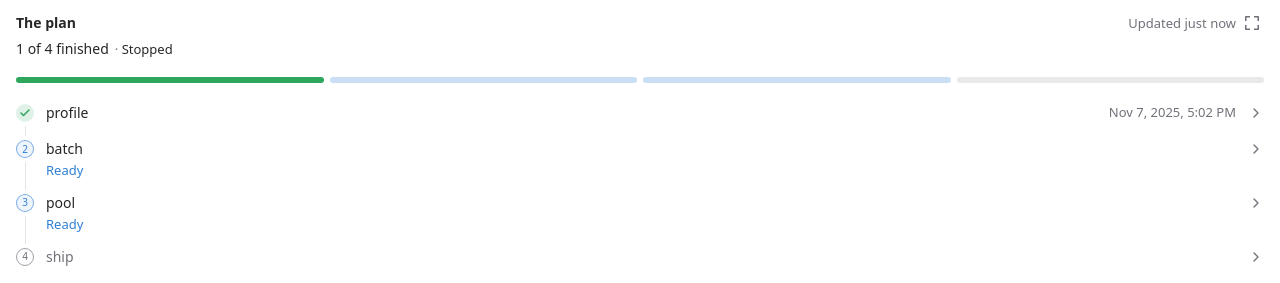
Scenario: TasksPanel › marks every step that can start as ready, and shows on the strip what waits on what
The image size is (1280, 283).
expect the picture named "Ready" reads "2": met, box [22,142,28,156]
expect the text "Ready" below "batch" is shown: met, box [46,162,83,179]
Hovering batch arcs it to profile, which it waits on, and ship, which waits on it.
Hover over the 2nd button with test id "tasks-progress-segment".
mouse_move(483, 80)  # box [330,72,637,88]
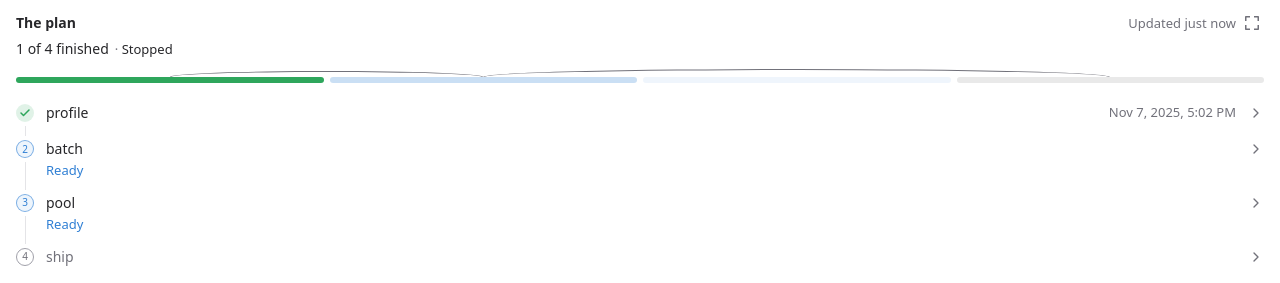
expect the number of elements with test id "tasks-progress-arc" is 2: met, box [170,71,483,77]; [483,69,1110,77]
Move the pointer off the element with test id "tasks-progress", box [16,72,1264,88]
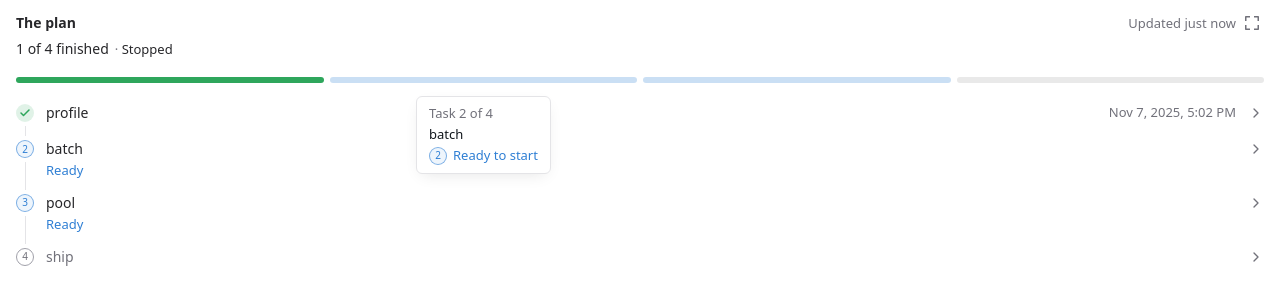
expect no elements with test id "tasks-progress-arc" are shown: met
